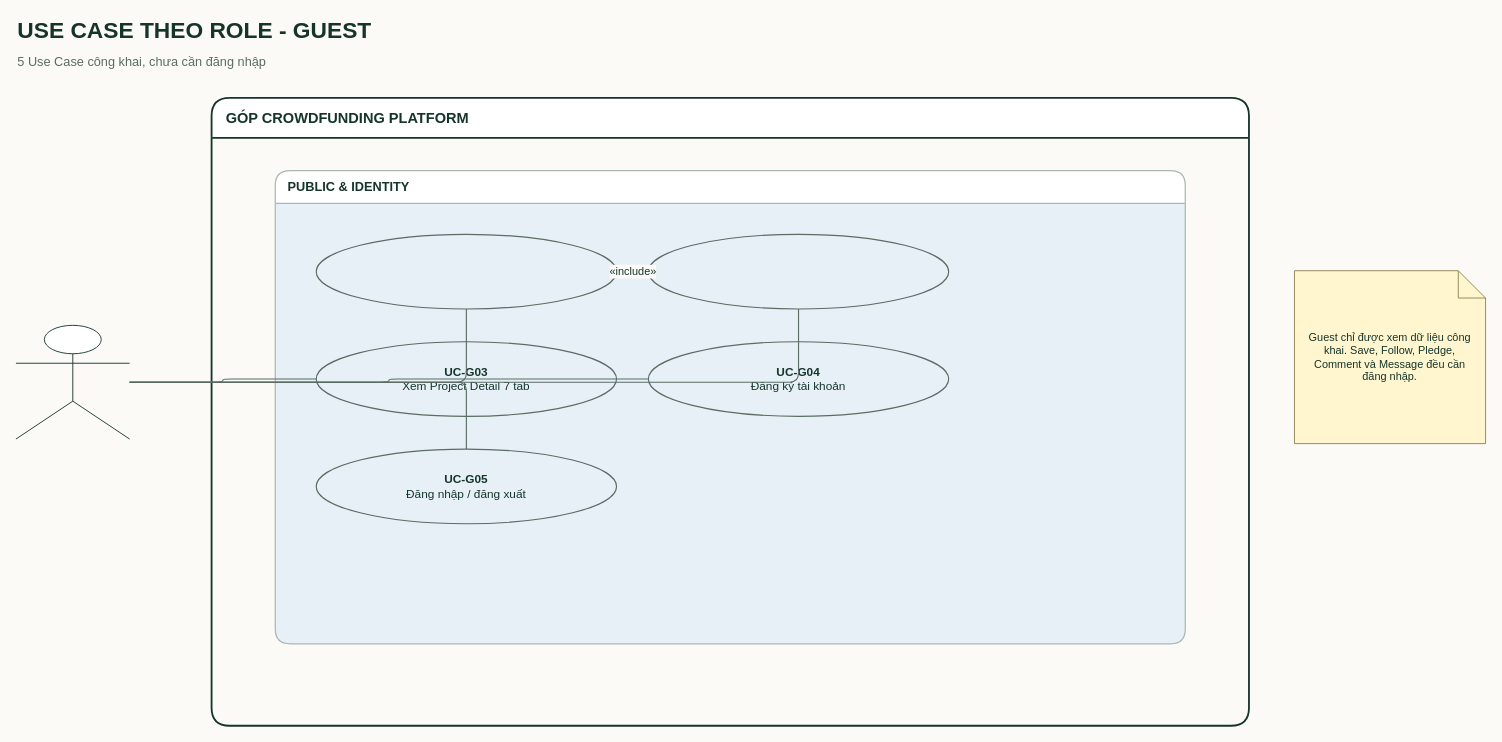
Image size: 1502x742. Some labels were removed from this diagram. The centre of each missing label's shape, as x and y in pixels:
"Guest" belongs at point (72, 381).
"UC-G01 Xem danh sách campaign công khai" belongs at point (466, 271).
"UC-G02 Tìm kiếm và lọc" belongs at point (798, 271).
